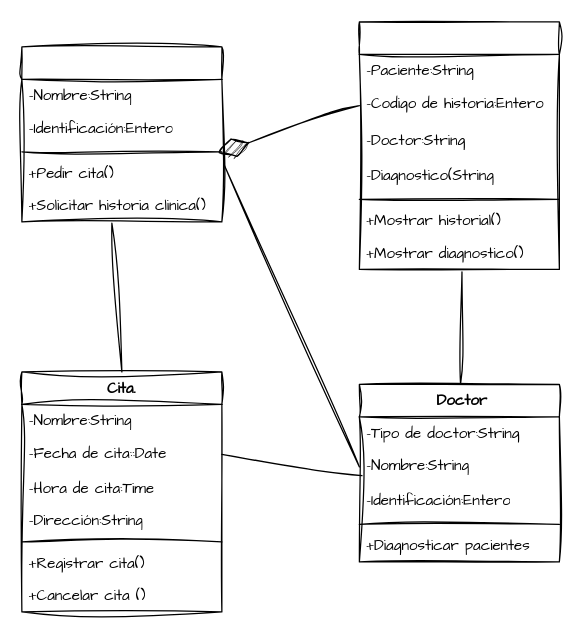
The diagram is 581 pixels wide and 638 high, and some of its shapes have lost their labels. The box of each missing label's shape, as (x1, y1, x2, y2) in pixels:
Historia Clínica: (358, 21, 559, 269)
Paciente.: (21, 46, 222, 222)
